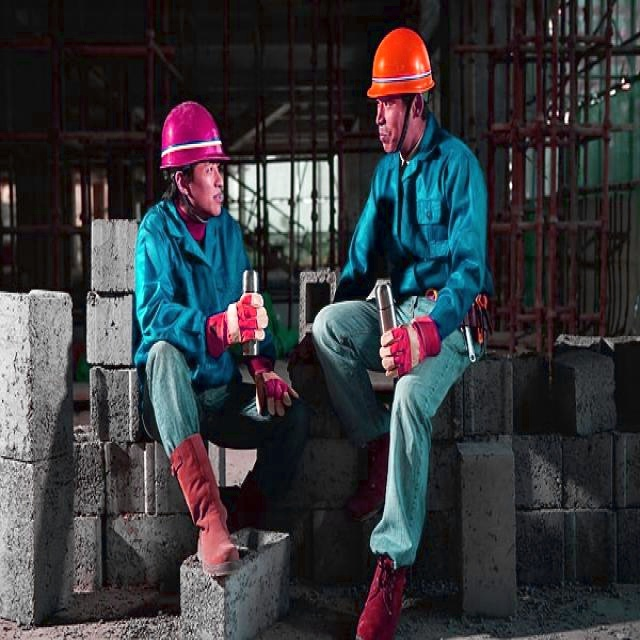Con_Casco: (368, 26, 434, 150), (160, 102, 230, 218)
